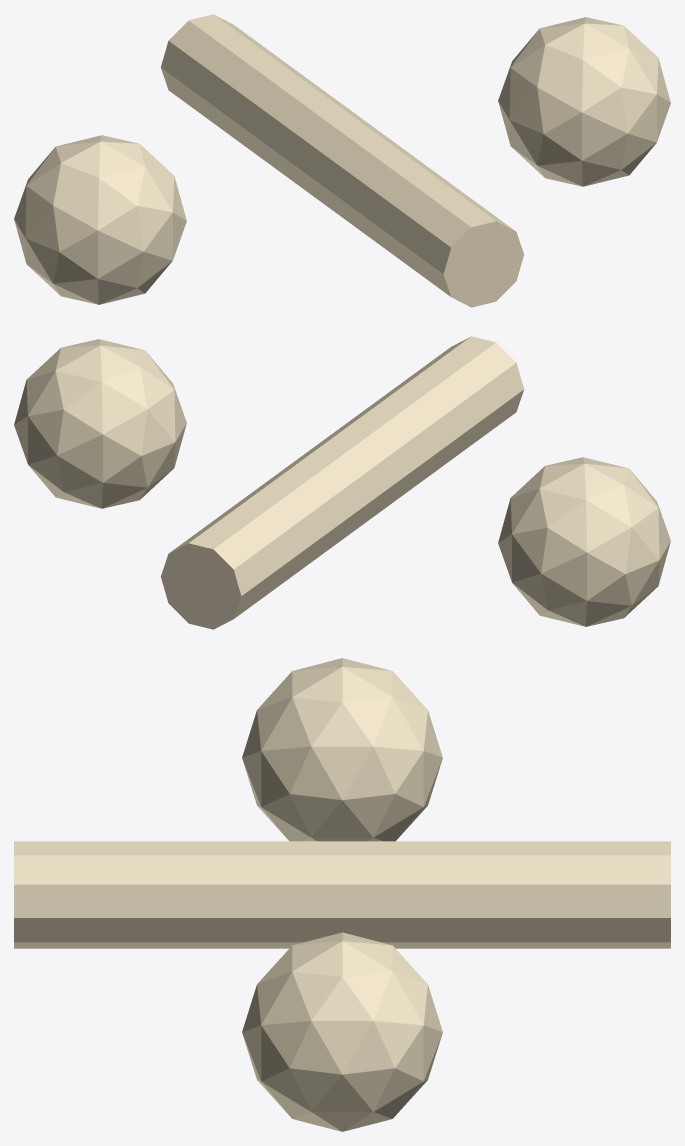
The model's file is dinosaur_bone.glb.
3 views of the same model, one above another, from view 1: azimuth 30°, elevation 25°; view 2: azimuth 150°, elevation 25°; view 3: azimuth 270°, elevation 25° (orthographic). The views are drawn at different scales.
Visible parts, largest first — view 1: part_0, part_1, part_2; view 2: part_0, part_1, part_2; view 3: part_0, part_2, part_1.
Boxes of the visible parts, box(x1,y1,x2,y2) form: part_0: box(160, 14, 524, 307); part_1: box(14, 135, 186, 304); part_2: box(498, 17, 670, 186); part_0: box(160, 336, 524, 629); part_1: box(498, 457, 670, 626); part_2: box(14, 339, 186, 508); part_0: box(14, 841, 670, 948); part_2: box(242, 932, 442, 1131); part_1: box(242, 658, 442, 841).
Bounding box in the file's own units: 1.1 × 0.26 × 0.85.
